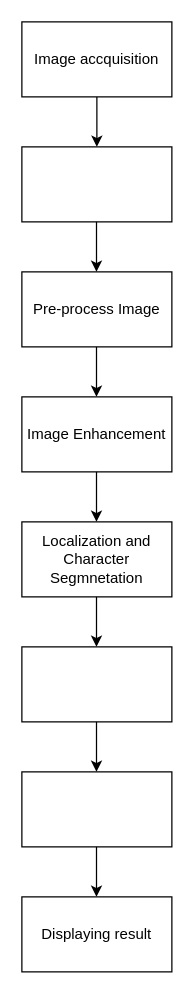
Image size: 194x994. Some labels were removed from this diagram. The shapes that lost their labels are listed below. From the top down, each one's box as (x1, y1, x2, y2) in pixels, then its label:
(21, 146, 172, 222): Image Extraction
(21, 646, 172, 722): Resizing Segments
(21, 771, 172, 847): Character Recognition
